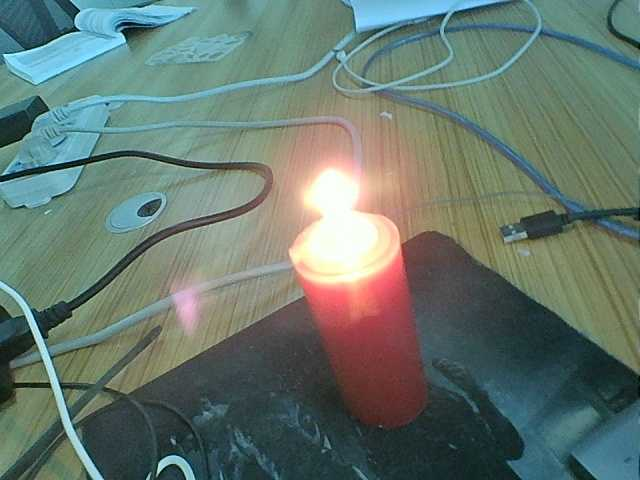candle: (288, 281, 449, 425), (283, 171, 393, 274)
